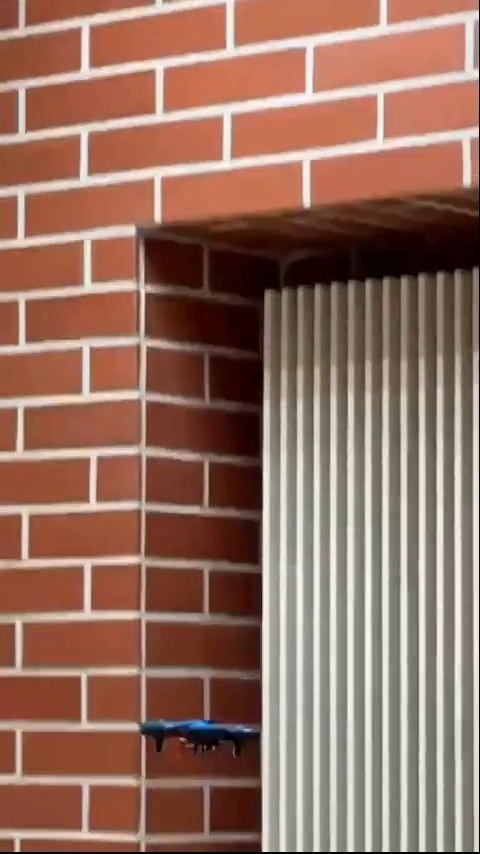drone: (138, 712, 255, 761)
